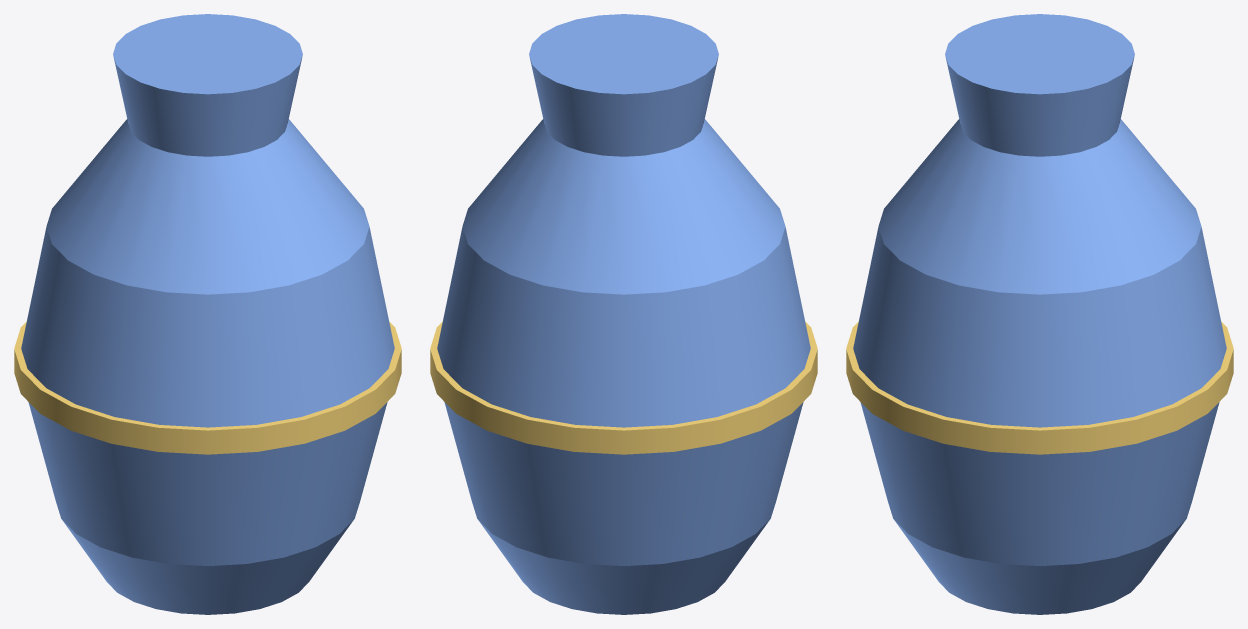
Rendered from vase.glb.
The picture shows the model from 3 angles, left to right: view 1: azimuth 30°, elevation 25°; view 2: azimuth 150°, elevation 25°; view 3: azimuth 270°, elevation 25°; orthographic projection.
Parts seen in each view (by area): view 1: vase.glb; view 2: vase.glb; view 3: vase.glb.
Part boxes in pixels (<box>): vase.glb: <box>14,14,401,614</box>; vase.glb: <box>430,14,817,614</box>; vase.glb: <box>846,14,1233,614</box>.
Bounding box in the file's own units: 0.204 × 0.3 × 0.204.
